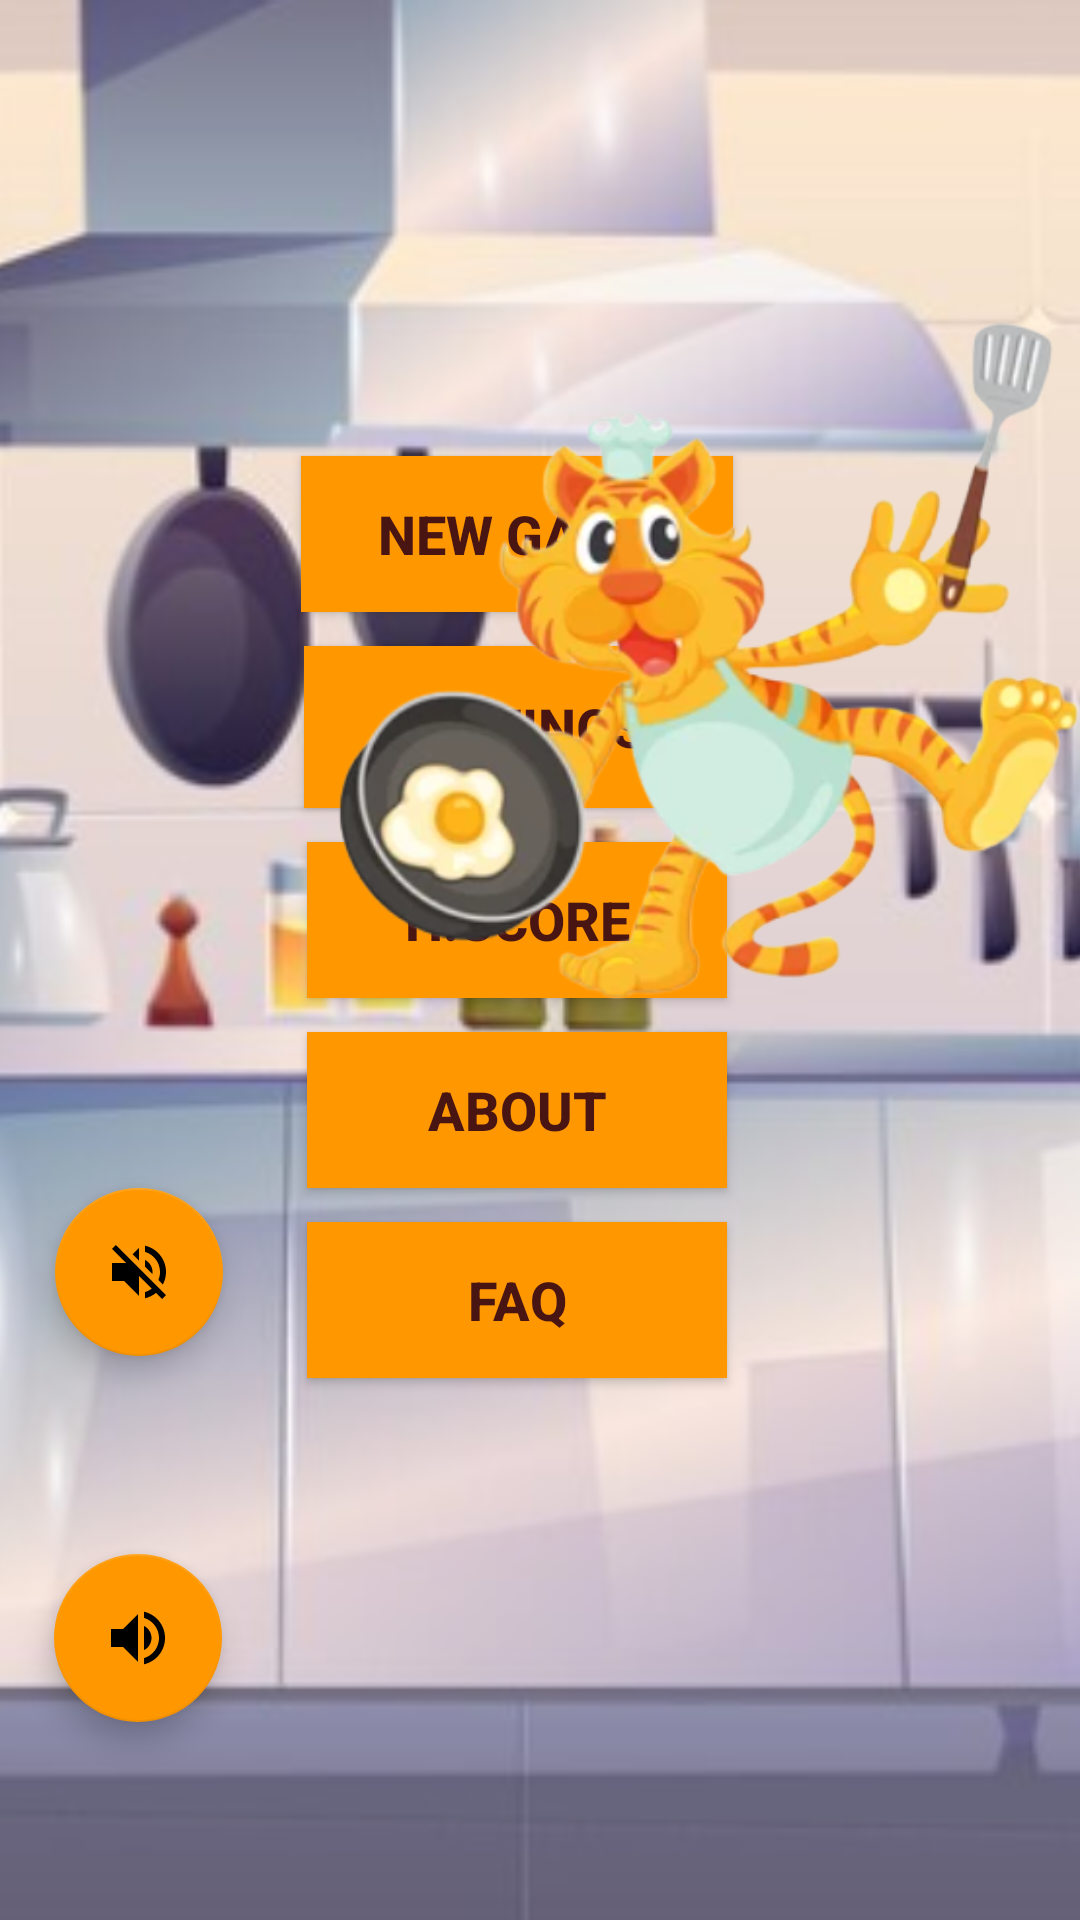

Screen size 1080×1920. Icon name, then its center in pixels as (x,y):
volume off: (139,1272)
volume on: (138,1638)
